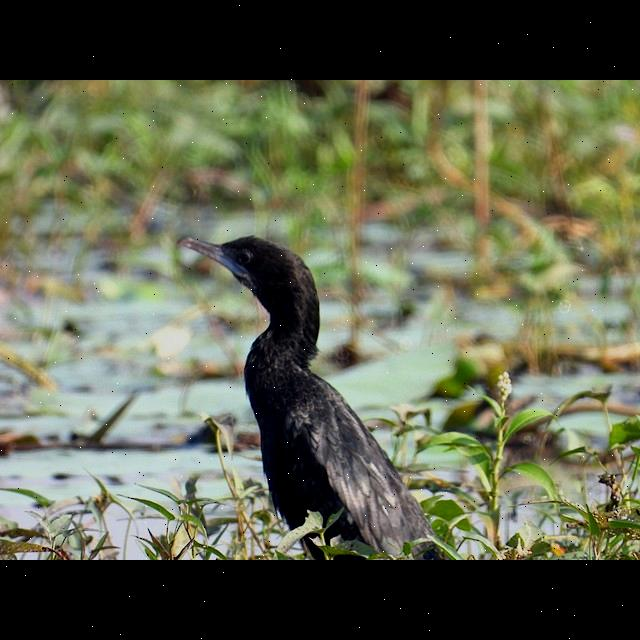cormorant: (177, 232, 431, 554)
